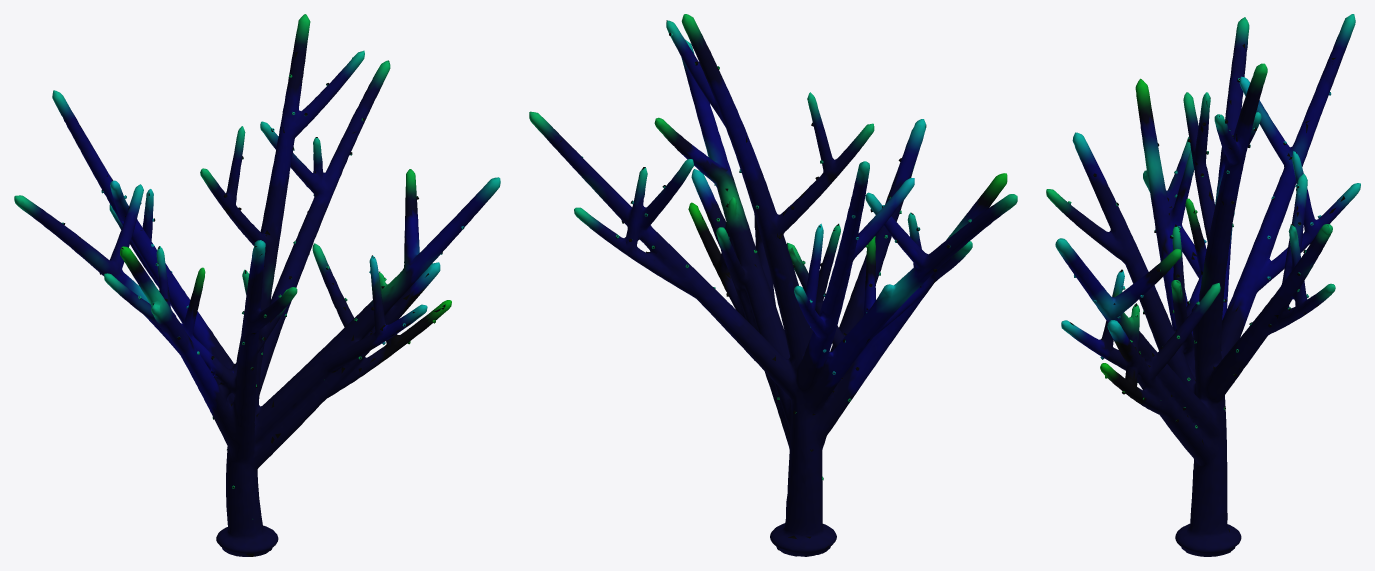
The model's file is reef-acropora-antler.glb.
The picture shows the model from 3 angles, left to right: view 1: azimuth 30°, elevation 25°; view 2: azimuth 150°, elevation 25°; view 3: azimuth 270°, elevation 25°; orthographic projection. The views are drawn at different scales.
Parts seen in each view (by area): view 1: Reef_Acropora_Antler; view 2: Reef_Acropora_Antler; view 3: Reef_Acropora_Antler.
Part boxes in pixels (x1,y1,x2,y2): Reef_Acropora_Antler: (14, 14, 500, 556); Reef_Acropora_Antler: (529, 14, 1017, 556); Reef_Acropora_Antler: (1046, 14, 1360, 556).
Size of the model in its own units: 0.192 by 0.2181 by 0.1184.
Materials: 1 (1 with a texture image).
